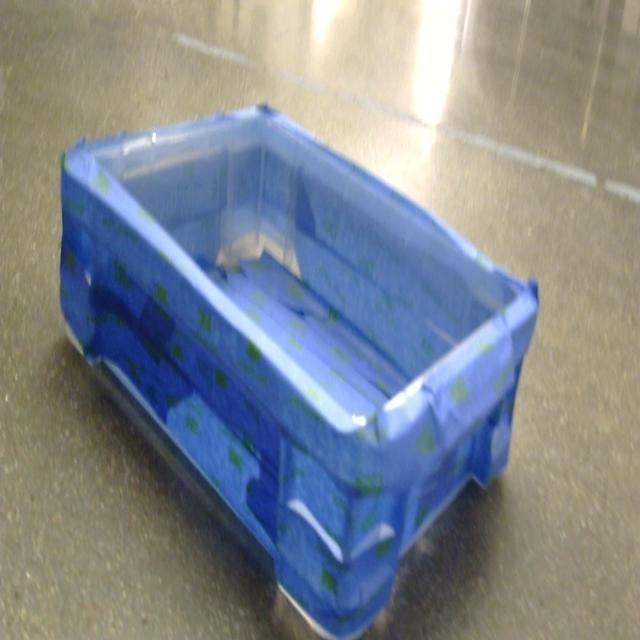bucket: (56, 105, 540, 640)
